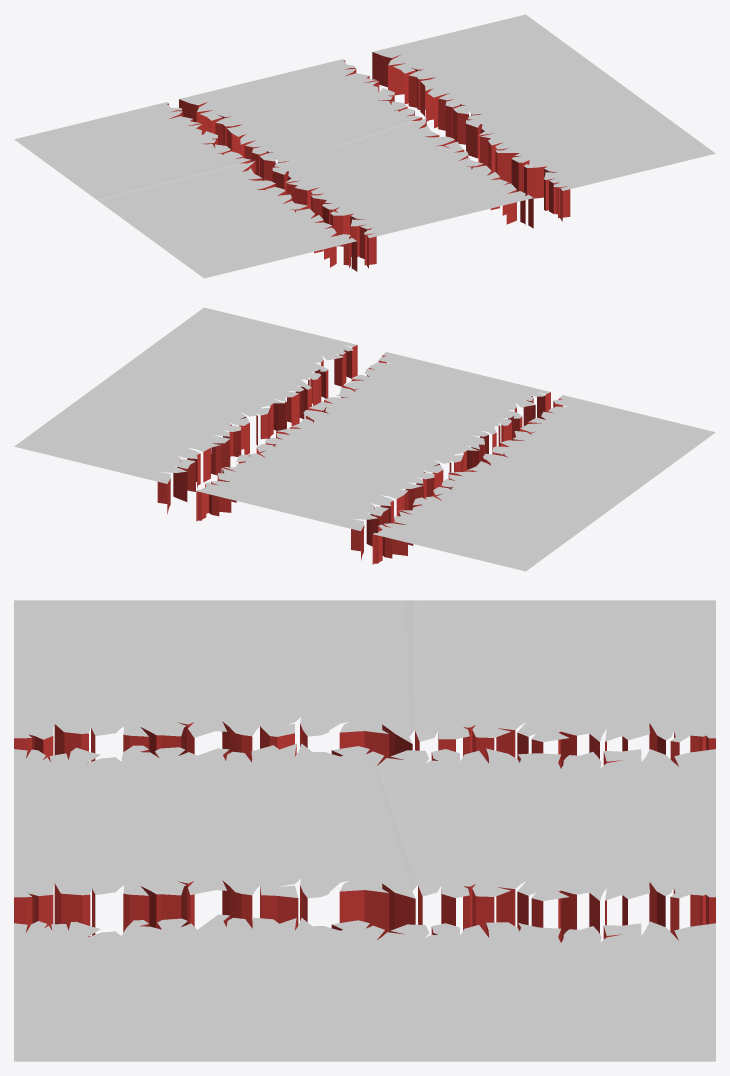
File: icefinal 2.fbx
3 views of the same model, one above another, from view 1: azimuth 30°, elevation 25°; view 2: azimuth 150°, elevation 25°; view 3: azimuth 270°, elevation 25° (orthographic). The views are drawn at different scales.
Visible parts, largest first — view 1: Plane.009, Plane.008, Plane.010; view 2: Plane.008, Plane.009, Plane.010; view 3: Plane.008, Plane.010, Plane.009.
Part boxes in pixels (left/top/right/bottom): Plane.009: left=372, top=14, right=715, bottom=221; Plane.008: left=179, top=59, right=533, bottom=268; Plane.010: left=14, top=102, right=357, bottom=278; Plane.008: left=196, top=352, right=550, bottom=560; Plane.009: left=14, top=307, right=357, bottom=514; Plane.010: left=372, top=395, right=715, bottom=571; Plane.008: left=14, top=743, right=715, bottom=942; Plane.010: left=14, top=600, right=715, bottom=767; Plane.009: left=14, top=914, right=715, bottom=1061.
Bounding box in the file's own units: 8703 × 505 × 5600.
